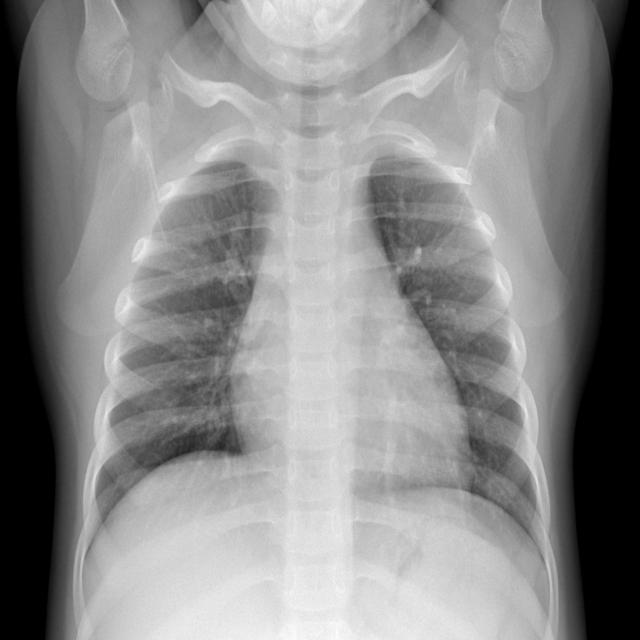no-pneumonia: (75, 162, 276, 599), (371, 157, 552, 564)
